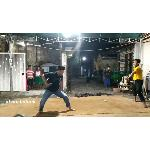Celurit: (44, 76, 64, 90)
